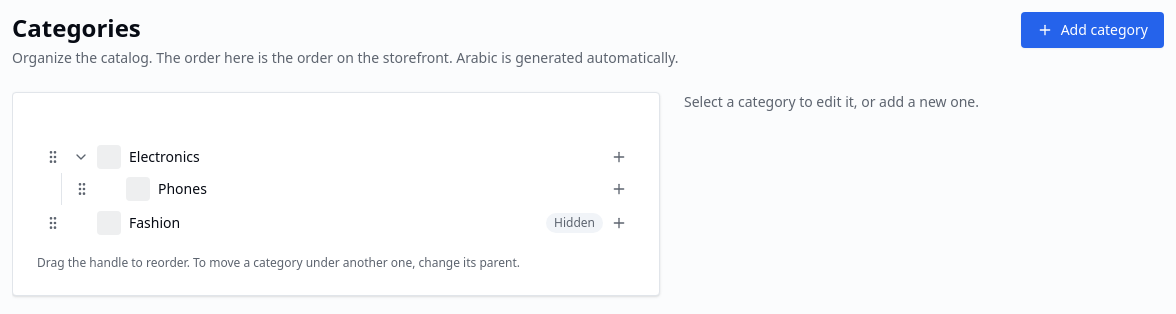
Scenario: Categories page › shows the nested tree with hidden badges and drag handles
The image size is (1176, 314).
Check: the button "Electronics" is shown, box [125,147,603,167]
Check: the button "Phones" is shown, box [154,179,603,199]
Click the button named "Hide subcategories of Electronics": (81, 157) [69,145,93,169]
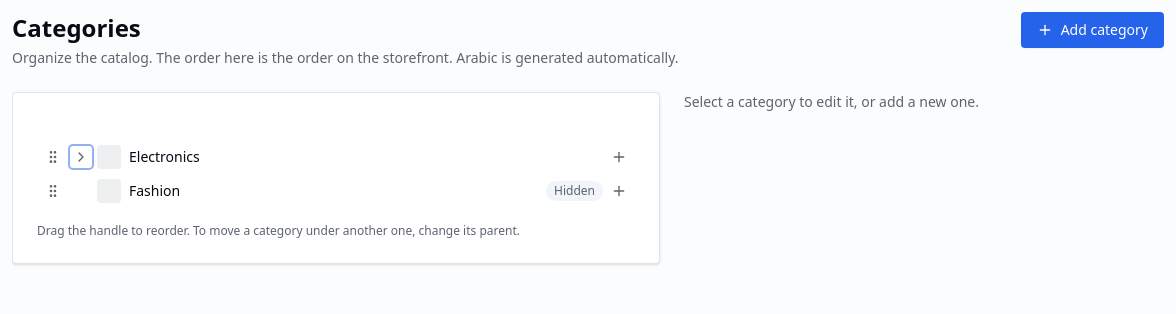
Check: the button "Phones" is gone
